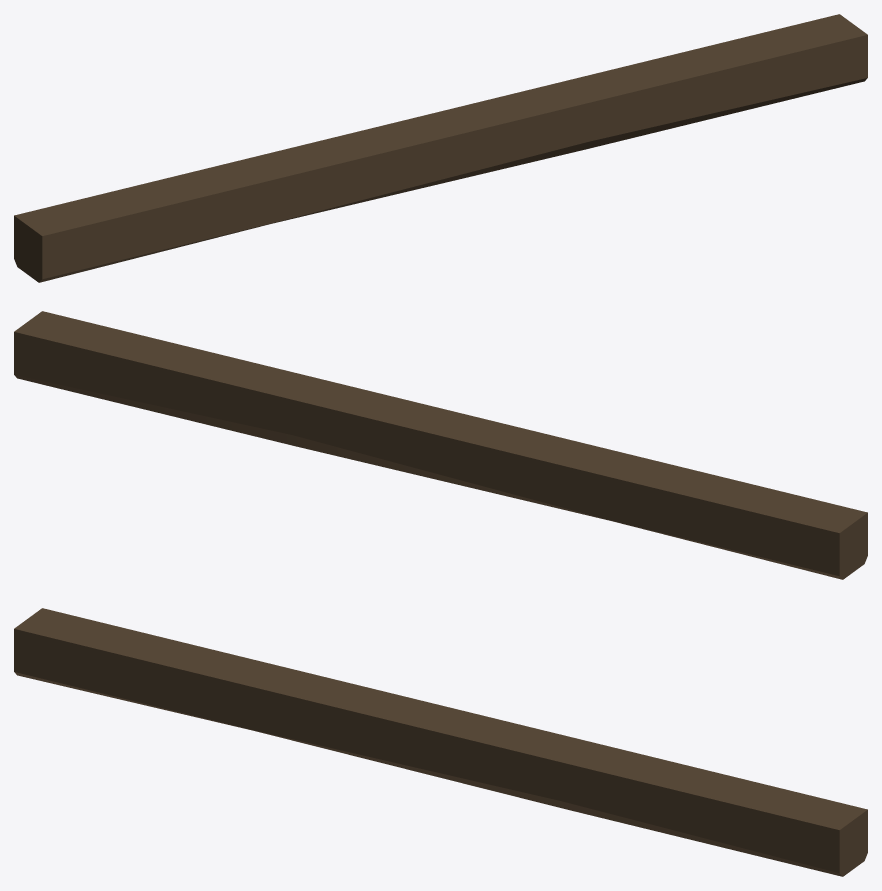
File: SM_Bld_Ceiling_Beam_01.fbx
The picture shows the model from 3 angles, top to bottom: view 1: azimuth 30°, elevation 25°; view 2: azimuth 150°, elevation 25°; view 3: azimuth 330°, elevation 25°; orthographic projection.
Parts seen in each view (by area): view 1: SM_Bld_Ceiling_Beam_01; view 2: SM_Bld_Ceiling_Beam_01; view 3: SM_Bld_Ceiling_Beam_01.
Part boxes in pixels (bbox=[...]): SM_Bld_Ceiling_Beam_01: bbox=[14, 14, 867, 282]; SM_Bld_Ceiling_Beam_01: bbox=[14, 311, 867, 579]; SM_Bld_Ceiling_Beam_01: bbox=[14, 608, 867, 876].
Size of the model in its own units: 250 by 14.21 by 14.86.
